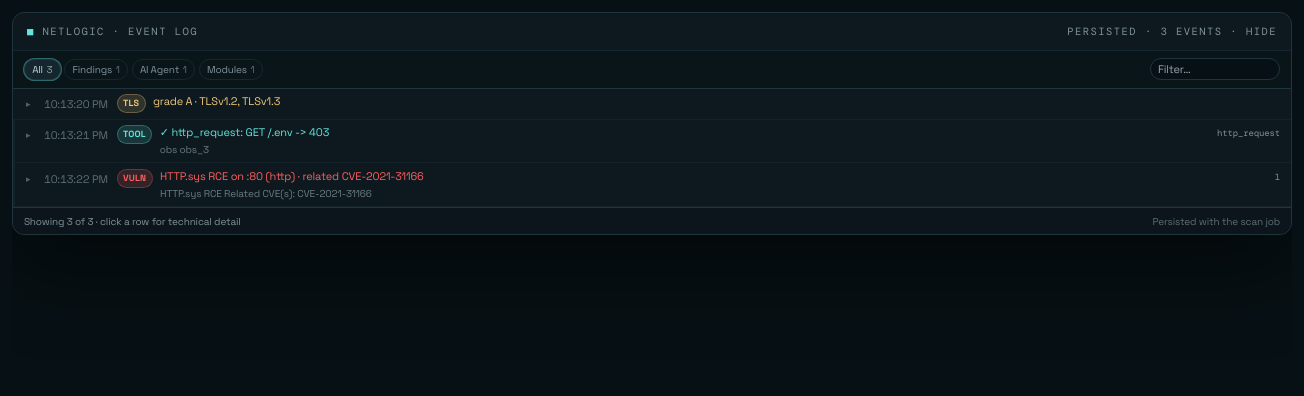
Scenario: ScanFeed — click to expand technical detail › surfaces vulnerability detail with related CVE context
The image size is (1304, 396).
Click the text "HTTP.sys RCE on :80 (http) · related CVE-2021-31166" at (292, 176), box [160,169,424,183]
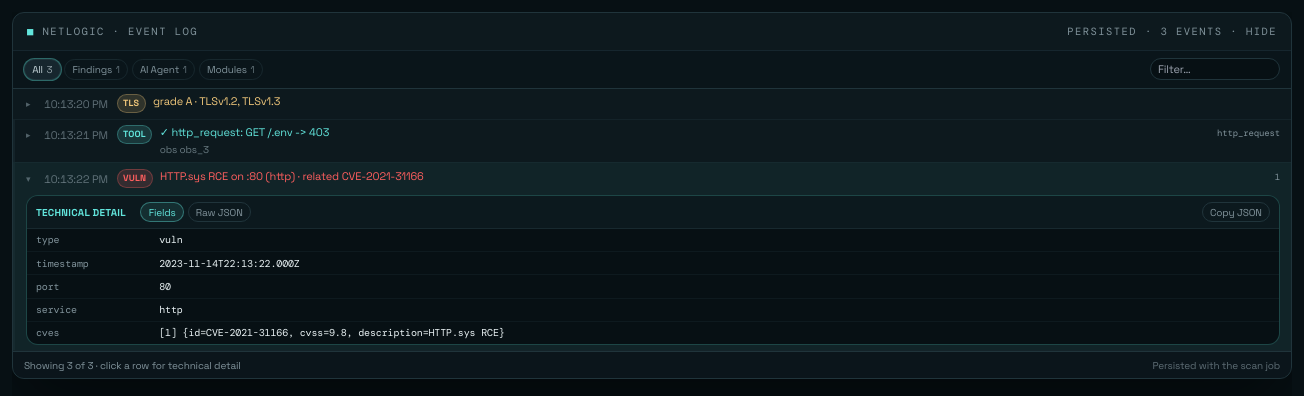
Expected: the text "Technical detail" is shown, [36,204,126,220]
